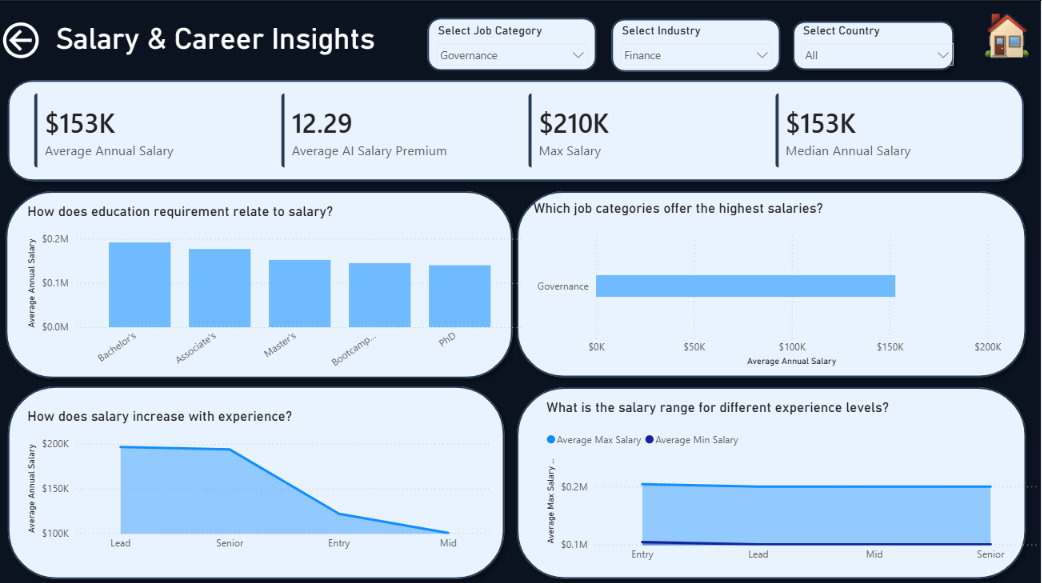

Layout of this report page (visuals, bound fields, positions):
{"tool":"powerbi","page":{"name":"Salary & Carrer  Insights","canvas":[1280,720],"ordinal":2},"visuals":[{"type":"group","id":"g1","title":"Background","box":[0,16.4,1270.3,702.1],"z":0},{"type":"shape","box":[2.8,88.2,1264.7,141.9],"z":0,"group":"g1"},{"type":"shape","box":[0,224.5,640,247.7],"z":1000,"group":"g1"},{"type":"stackedAreaChart","title":"How does salary increase with experience?","fields":{"Category":["AI_data_jobs_experience.experience_level"],"Y":["Avg(AI_data_jobs.annual_salary_usd)"]},"box":[30.6,499.5,580.2,183.7],"z":1000},{"type":"clusteredBarChart","title":"Which job categories offer the highest salaries?","fields":{"Category":["AI_data_jobs.job_category"],"Y":["Avg(AI_data_jobs_experience.annual_salary_usd)"]},"box":[682.2,247.9,584.3,208.7],"z":2000},{"type":"shape","box":[2.8,463.8,627.5,254.6],"z":2000,"group":"g1"},{"type":"shape","box":[627.5,224.5,642.8,246.3],"z":3000,"group":"g1"},{"type":"clusteredColumnChart","title":"How does education requirement relate to salary?","fields":{"Category":["AI_data_jobs.education_required"],"Y":["Avg(AI_data_jobs_experience.annual_salary_usd)"]},"box":[30.6,247.7,620.5,215.7],"z":3000},{"type":"shape","box":[627.5,465.2,642.8,253.2],"z":4000,"group":"g1"},{"type":"areaChart","title":"What is the salary range for different experience levels?","fields":{"Category":["AI_data_jobs_experience.experience_level"],"Y":["Avg(AI_data_jobs.salary_max_usd)","Avg(AI_data_jobs.salary_min_usd)"]},"box":[667.8,488.3,612.2,208.7],"z":4000},{"type":"shape","box":[526.4,20.8,207.4,65],"z":5000,"group":"g1"},{"type":"cardVisual","fields":{"Data":["Avg(AI_data_jobs_company.annual_salary_usd)","Avg(AI_data_jobs.ai_salary_premium_pct)","Max(AI_data_jobs.salary_max_usd)","Median(AI_data_jobs_company.annual_salary_usd)1"]},"box":[40.3,96,1239.7,125.2],"z":5000},{"type":"shape","box":[752.7,22.8,207.4,65],"z":6000,"group":"g1"},{"type":"slicer","fields":{"Values":["AI_data_jobs.job_category"]},"box":[525.9,23.7,207.3,64],"z":6000},{"type":"shape","box":[965.6,16.4,215.7,77.9],"z":7000,"group":"g1"},{"type":"slicer","fields":{"Values":["AI_data_jobs_company.industry"]},"box":[752.7,23.7,207.3,64],"z":7000},{"type":"slicer","fields":{"Values":["AI_data_jobs.country"]},"box":[973.9,23.7,207.3,64],"z":8000},{"type":"textbox","title":"Salary & Career Insights","box":[60.1,20.9,412.3,63.8],"z":9000},{"type":"image","box":[1208.6,9.8,57.8,65.2],"z":10000},{"type":"actionButton","box":[0,20.9,60.1,55.2],"z":11000}]}

Visuals, with their boxes in screenshot pixels (x1, y1, x2, y2), scaled from the page's 1280x720 canvas onto the 1042x583 screenshot:
"Background" group: BBox(0, 13, 1034, 582)
shape: BBox(2, 71, 1032, 186)
shape: BBox(0, 182, 521, 382)
"How does salary increase with experience?" stackedAreaChart: BBox(25, 404, 497, 553)
"Which job categories offer the highest salaries?" clusteredBarChart: BBox(555, 201, 1031, 370)
shape: BBox(2, 376, 513, 582)
shape: BBox(511, 182, 1034, 381)
"How does education requirement relate to salary?" clusteredColumnChart: BBox(25, 201, 530, 375)
shape: BBox(511, 377, 1034, 582)
"What is the salary range for different experience levels?" areaChart: BBox(544, 395, 1041, 564)
shape: BBox(429, 17, 597, 69)
cardVisual - Avg(AI_data_jobs_company.annual_salary_usd) x Avg(AI_data_jobs.ai_salary_premium_pct): BBox(33, 78, 1041, 179)
shape: BBox(613, 18, 782, 71)
slicer - AI_data_jobs.job_category: BBox(428, 19, 597, 71)
shape: BBox(786, 13, 962, 76)
slicer - AI_data_jobs_company.industry: BBox(613, 19, 782, 71)
slicer - AI_data_jobs.country: BBox(793, 19, 962, 71)
"Salary & Career Insights" textbox: BBox(49, 17, 385, 69)
image: BBox(984, 8, 1031, 61)
actionButton: BBox(0, 17, 49, 62)
